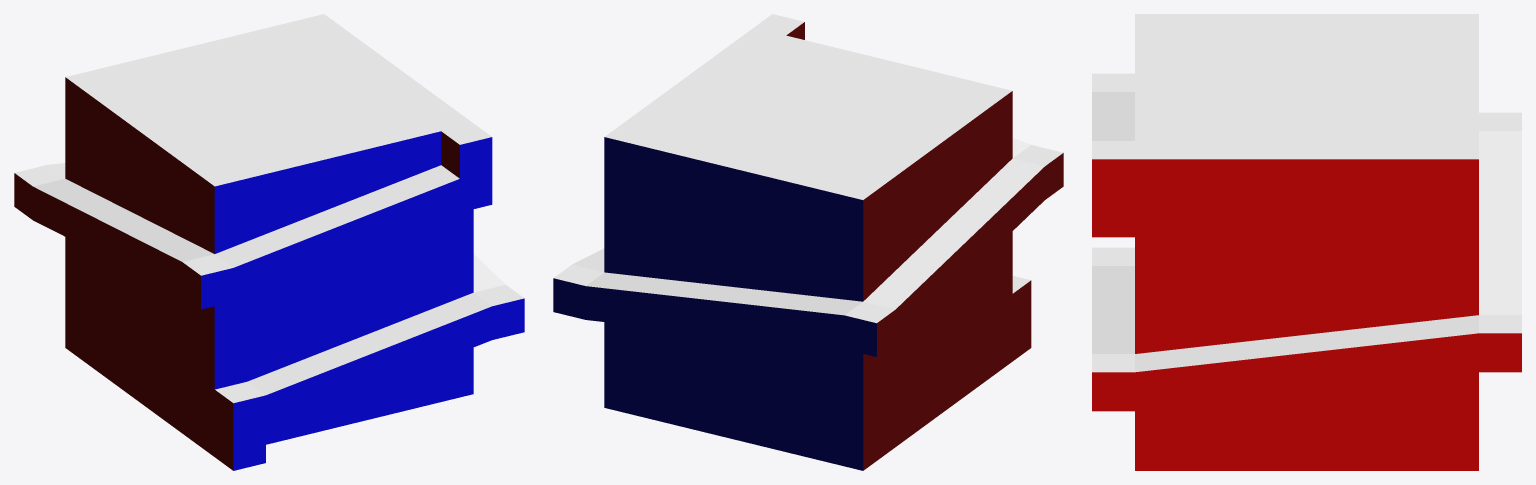
File: labeled_CAD.glb
The picture shows the model from 3 angles, left to right: view 1: azimuth 30°, elevation 25°; view 2: azimuth 150°, elevation 25°; view 3: azimuth 270°, elevation 25°; orthographic projection. The views are drawn at different scales.
Size of the model in its own units: 10 by 8 by 10.
Materials: 1 (1 with a texture image).
